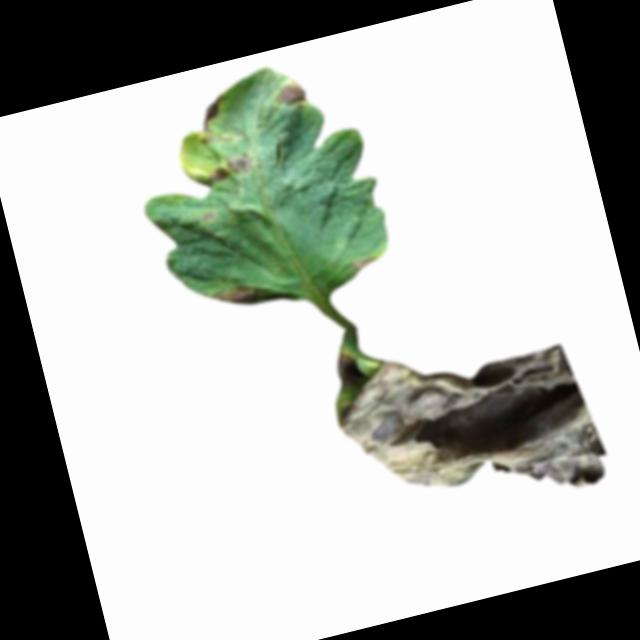Early_blight: (320, 296, 612, 543), (209, 274, 288, 317), (190, 94, 231, 144), (205, 151, 255, 185), (269, 75, 312, 110), (348, 254, 376, 272), (201, 208, 215, 222)
